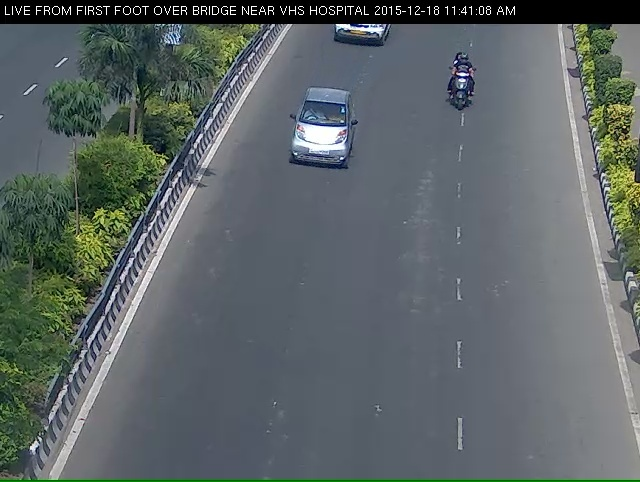Car: (284, 104, 358, 193)
Person: (445, 58, 480, 120)
